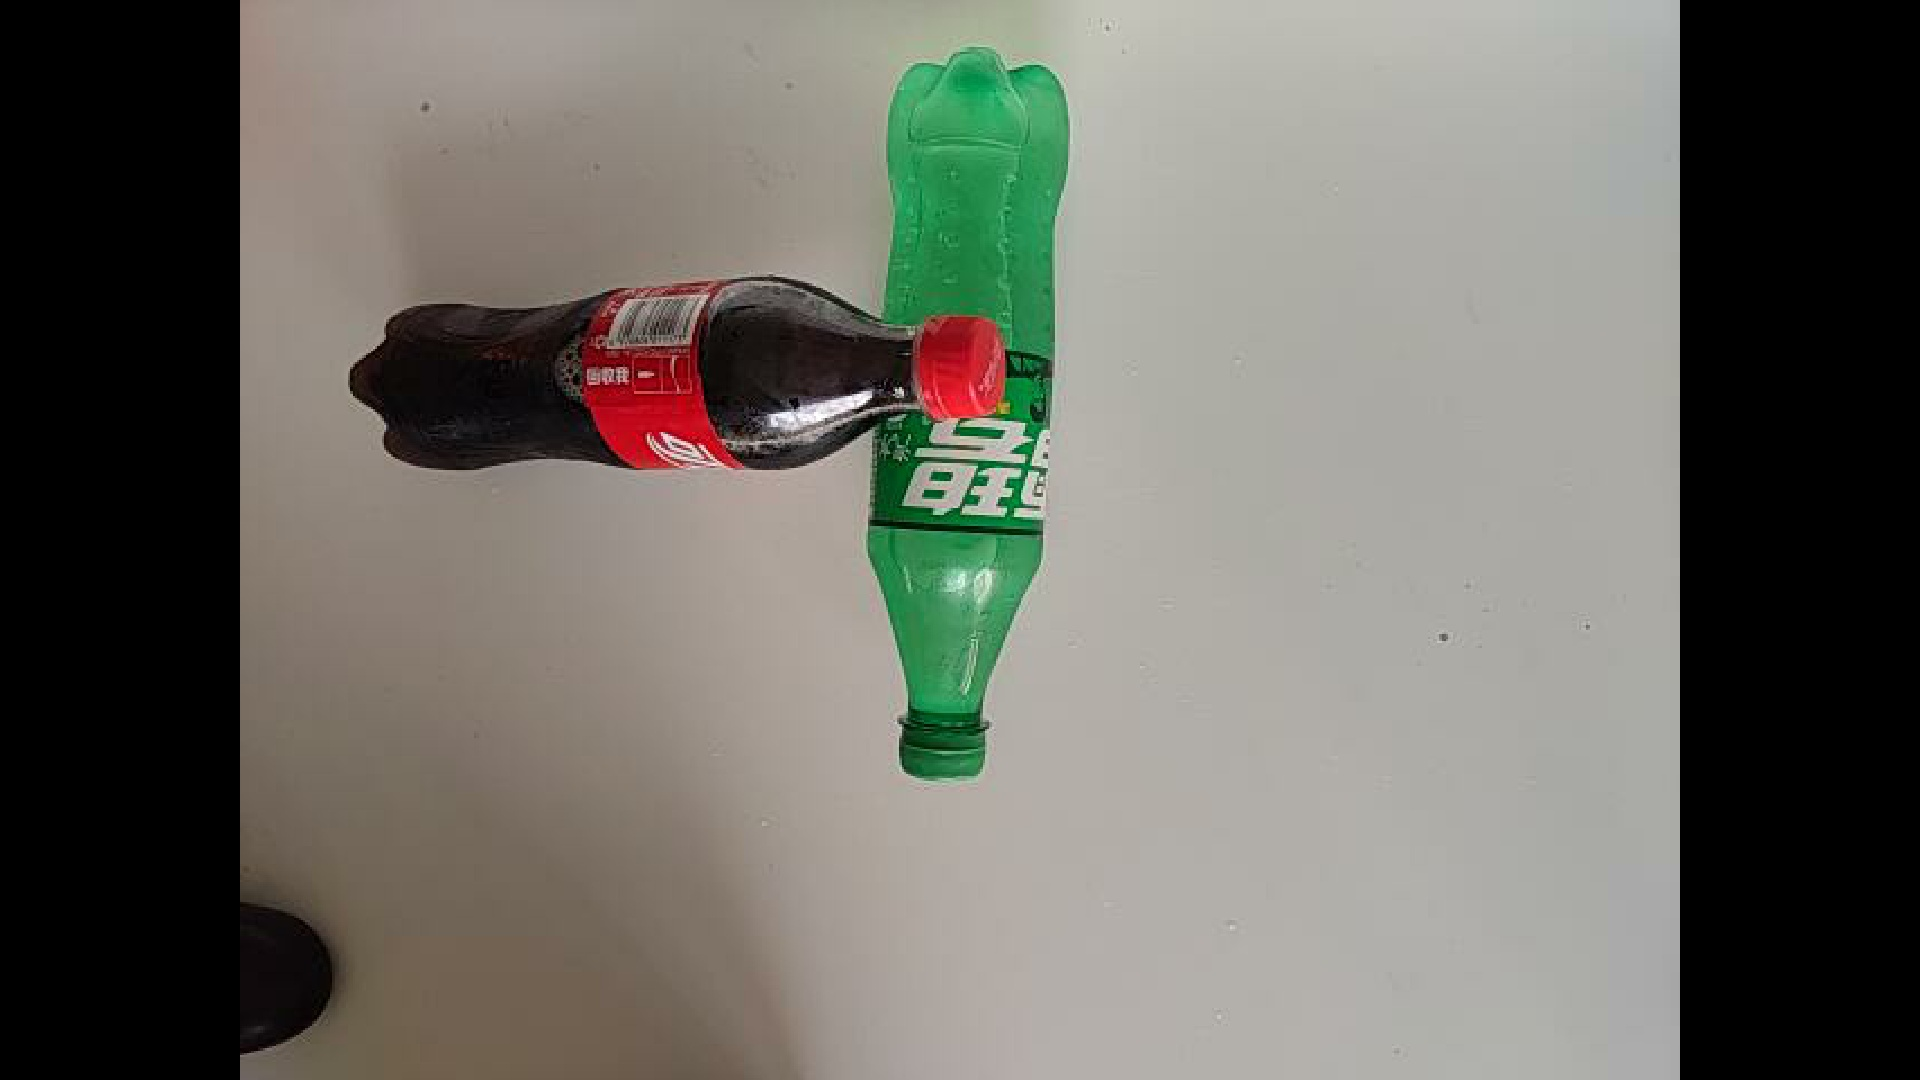cola: (345, 276, 1007, 471)
sprite: (848, 42, 1106, 791)
